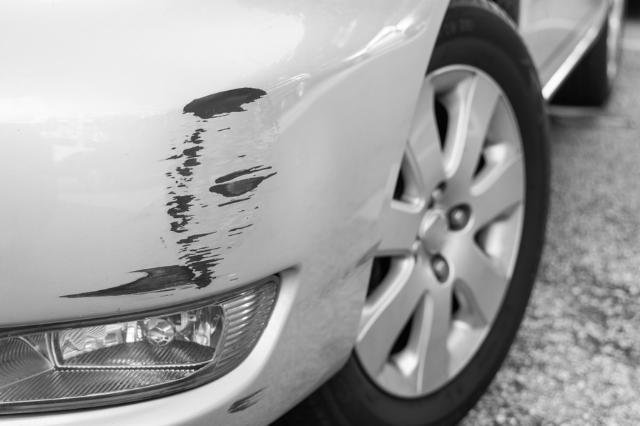Bumper: (0, 65, 421, 317)
